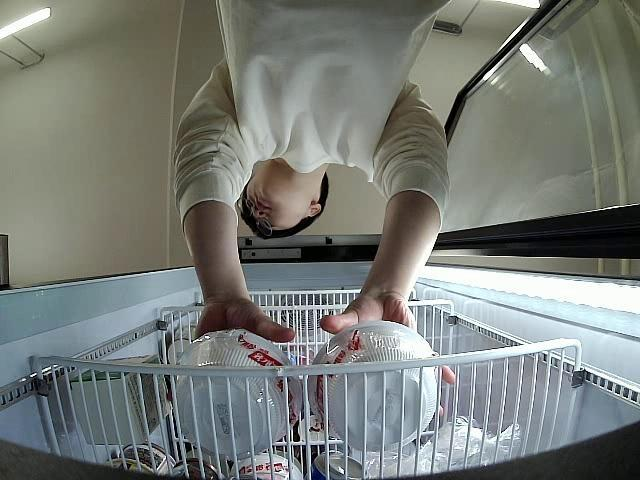09_yukGaeJang: (310, 322, 436, 453), (176, 330, 297, 458)
